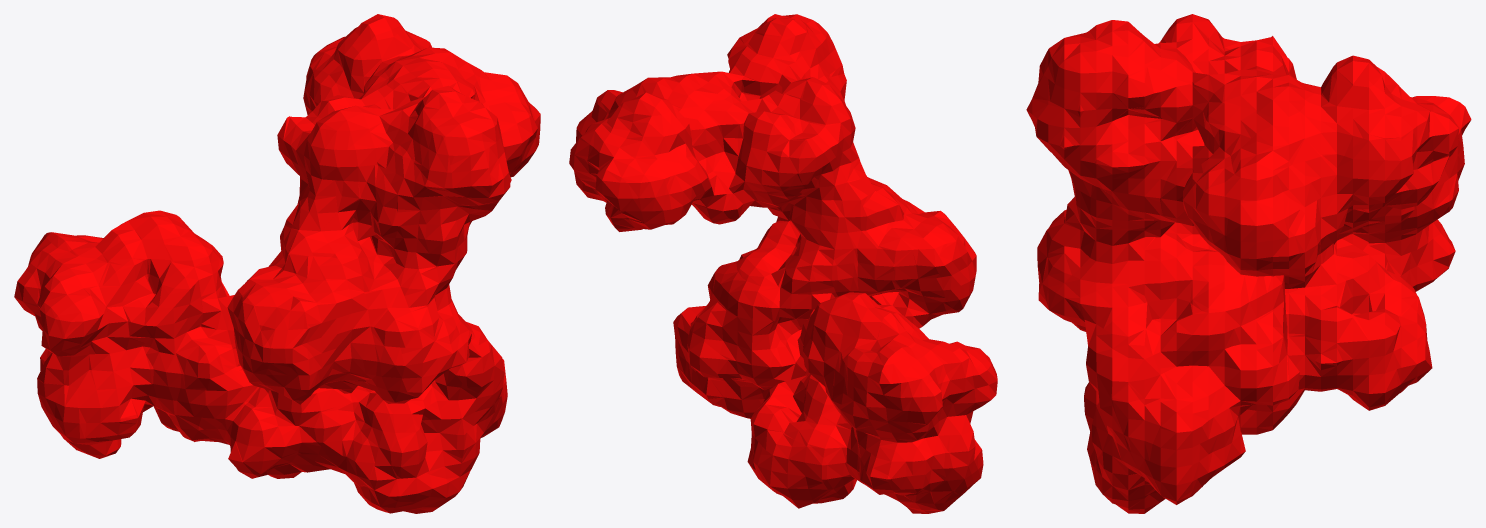
File: mnmC_coarse.dae
The picture shows the model from 3 angles, left to right: view 1: azimuth 30°, elevation 25°; view 2: azimuth 150°, elevation 25°; view 3: azimuth 270°, elevation 25°; orthographic projection. The views are drawn at different scales.
Parts seen in each view (by area): view 1: mnmC; view 2: mnmC; view 3: mnmC.
Part boxes in pixels (<box>): mnmC: <box>14,14,540,513</box>; mnmC: <box>569,14,997,513</box>; mnmC: <box>1026,14,1471,513</box>.
Bounding box in the file's own units: 186 × 163 × 133.
